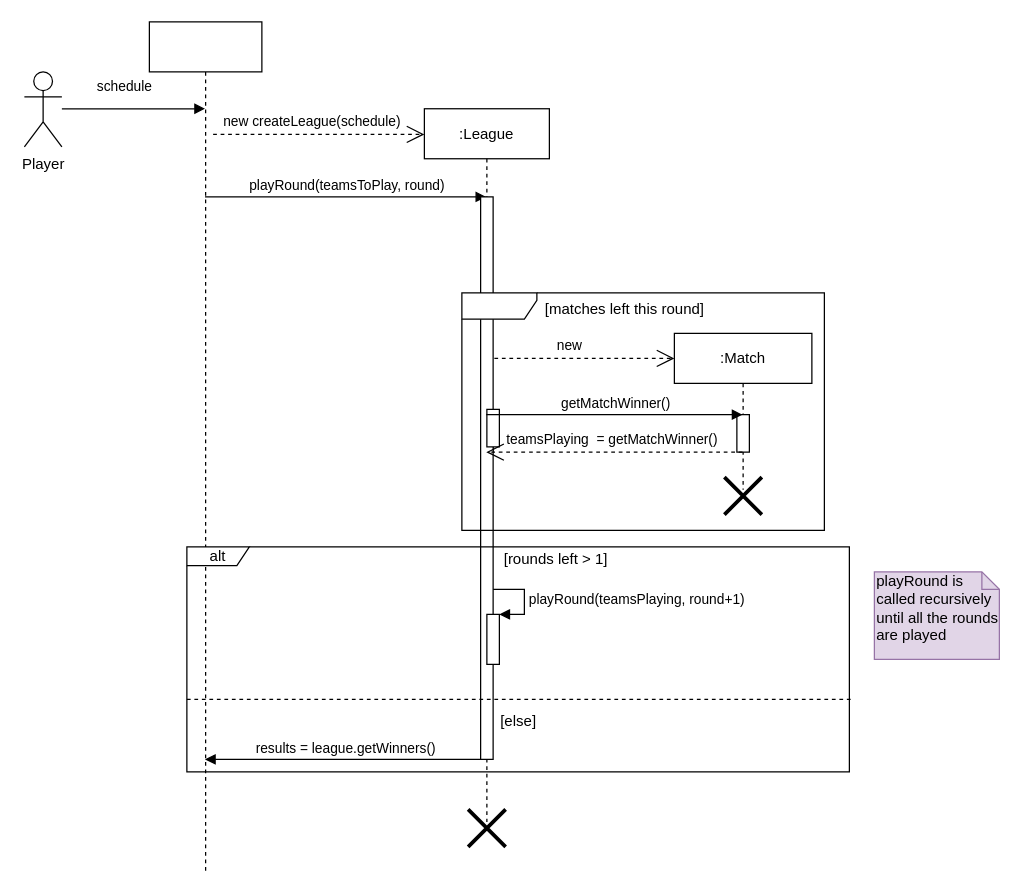
This 1021x894 diagram has some shape labels left out. The box of each missing label's shape, as (x1, y1, x2, y2) in pixels:
:Game: (148, 21, 262, 872)
loop(1,*): (461, 292, 824, 530)
